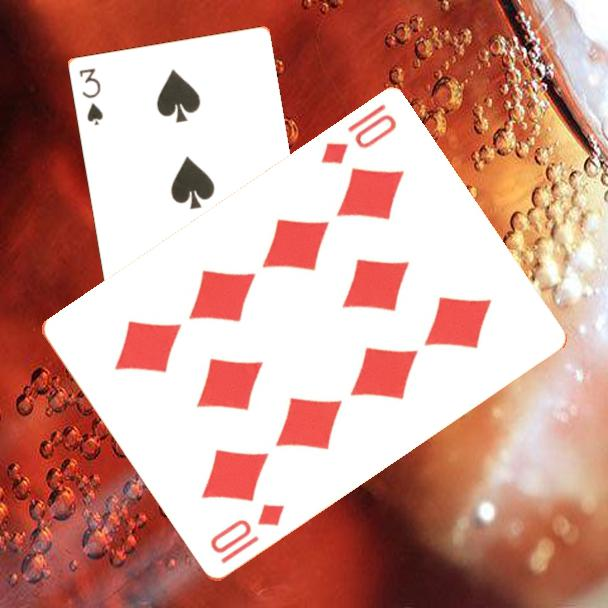d10: (317, 101, 400, 169), (206, 501, 288, 568)
s03: (75, 64, 106, 127)
